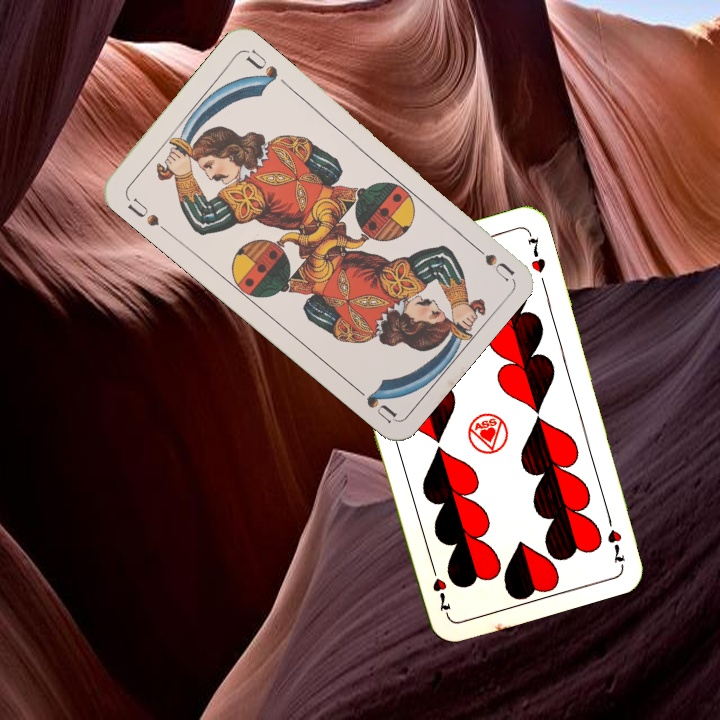H7: (602, 509, 627, 567)
SU: (464, 236, 515, 283), (122, 192, 171, 236)
